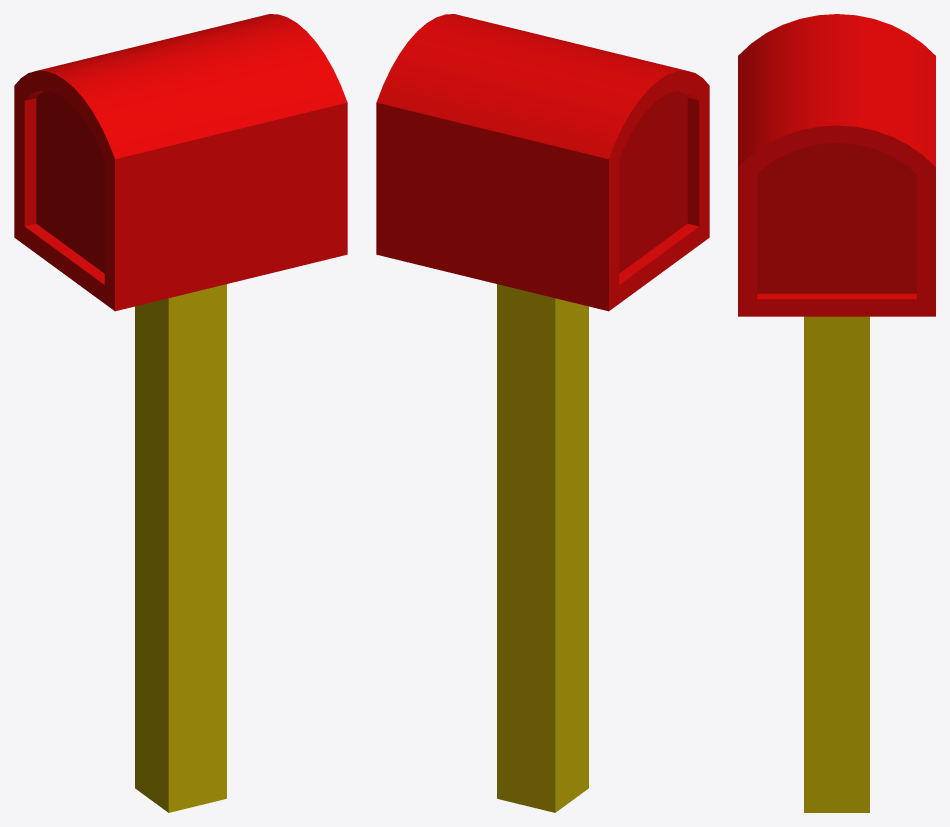
Rendered from MailBox.fbx.
The picture shows the model from 3 angles, left to right: view 1: azimuth 30°, elevation 25°; view 2: azimuth 150°, elevation 25°; view 3: azimuth 270°, elevation 25°; orthographic projection.
Parts seen in each view (by area): view 1: Untitled.010; view 2: Untitled.010; view 3: Untitled.010.
Part boxes in pixels (bbox=[...]): Untitled.010: bbox=[14, 14, 347, 812]; Untitled.010: bbox=[376, 14, 709, 812]; Untitled.010: bbox=[738, 14, 935, 812].
Size of the model in its own units: 40 by 122 by 30.
